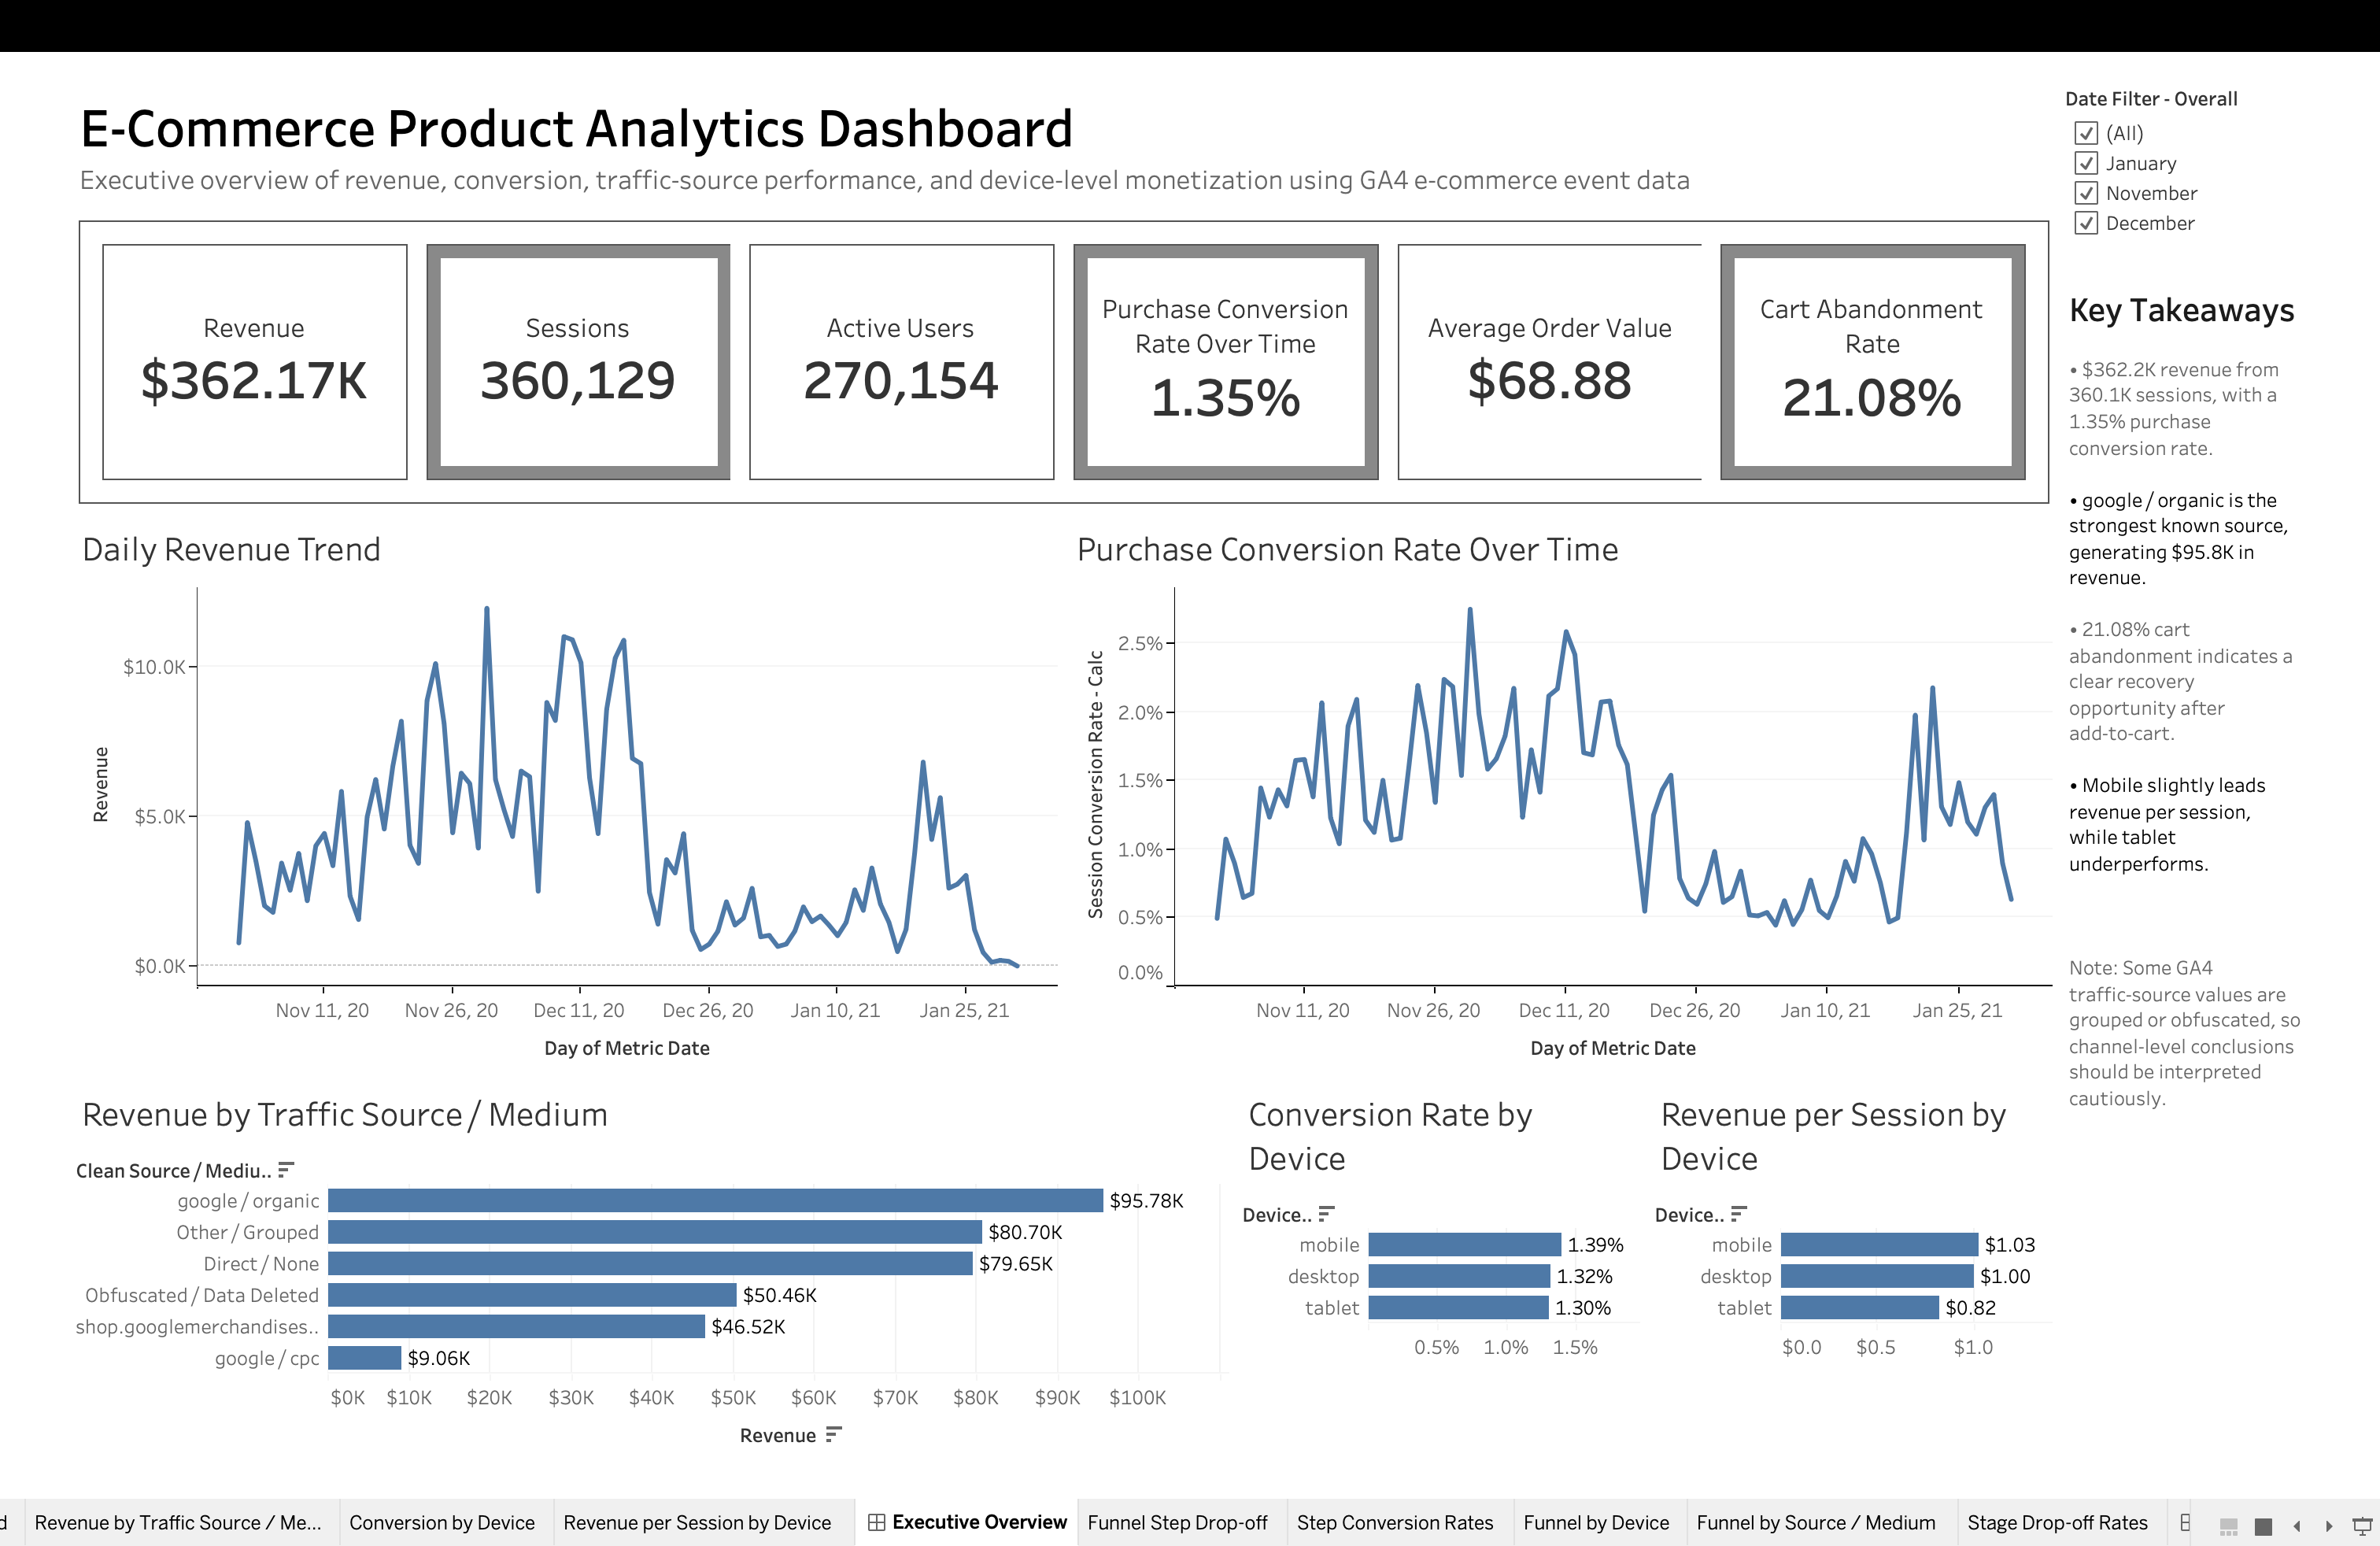

This screenshot's page, from the dashboard's own definition file:
{"tool":"tableau","page":{"name":"Executive Overview","canvas":[1440,900],"ordinal":3},"visuals":[{"type":"text","box":[8,8,1264,84.3]},{"type":"filter","title":"Revenue Trend","param":"[federated.046wzm80yttuqr15tszgp1d4b5ok].[mn:metric_date:ok]","box":[1272,8,160,128]},{"type":"worksheet","title":"KPI - Revenue","mark":"Text","box":[23,107.3,205.7,161.6]},{"type":"worksheet","title":"KPI - Sessions","mark":"Text","box":[228.7,107.3,205.7,161.6]},{"type":"worksheet","title":"KPI - Active Users","mark":"Text","box":[434.3,107.3,205.7,161.6]},{"type":"worksheet","title":"KPI - Conversion Rate","mark":"Text","box":[640,107.3,205.7,161.6]},{"type":"worksheet","title":"KPI - AOV","mark":"Text","box":[845.7,107.3,205.7,161.6]},{"type":"worksheet","title":"KPI - Cart Abandonment","mark":"Text","box":[1051.3,107.3,205.7,161.6]},{"type":"text","box":[1272,136,160,724]},{"type":"worksheet","title":"Revenue Trend","mark":"Line","rows":["revenue"],"cols":["metric_date"],"box":[8,283.9,632,359.1]},{"type":"worksheet","title":"Conversion Trend","mark":"Line","rows":["Calculation_3920720906452996"],"cols":["metric_date"],"box":[640,283.9,632,359.1]},{"type":"worksheet","title":"Revenue by Traffic Source / Medium","mark":"Bar","rows":["Calculation_3920720932274185"],"cols":["revenue"],"box":[8,643,741,249]},{"type":"worksheet","title":"Conversion by Device","mark":"Bar","rows":["device_category"],"cols":["Calculation_3920720928141319"],"box":[749,643,261.5,249]},{"type":"worksheet","title":"Revenue per Session by Device","mark":"Bar","rows":["device_category"],"cols":["Calculation_3920720929173512"],"box":[1010.5,643,261.5,249]}]}

Visuals, with their boxes on the page's 1440x900 design canvas (x1, y1, x2, y2). These are canvas units, not pixel positions in the 2380x1546 screenshot, which may show the page scaled, cropped or inside an application window:
text: [8, 8, 1272, 92]
"Revenue Trend" filter: [1272, 8, 1432, 136]
"KPI - Revenue" worksheet (Text marks): [23, 107, 229, 269]
"KPI - Sessions" worksheet (Text marks): [229, 107, 434, 269]
"KPI - Active Users" worksheet (Text marks): [434, 107, 640, 269]
"KPI - Conversion Rate" worksheet (Text marks): [640, 107, 846, 269]
"KPI - AOV" worksheet (Text marks): [846, 107, 1051, 269]
"KPI - Cart Abandonment" worksheet (Text marks): [1051, 107, 1257, 269]
text: [1272, 136, 1432, 860]
"Revenue Trend" worksheet (Line marks): [8, 284, 640, 643]
"Conversion Trend" worksheet (Line marks): [640, 284, 1272, 643]
"Revenue by Traffic Source / Medium" worksheet (Bar marks): [8, 643, 749, 892]
"Conversion by Device" worksheet (Bar marks): [749, 643, 1010, 892]
"Revenue per Session by Device" worksheet (Bar marks): [1010, 643, 1272, 892]
